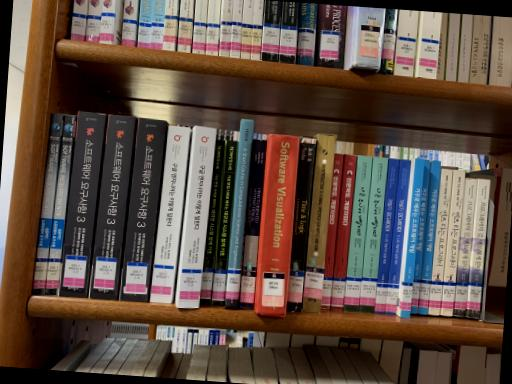book-spine: (58, 112, 106, 298), (88, 115, 135, 301), (118, 118, 164, 302), (257, 134, 299, 318), (148, 125, 189, 304), (176, 126, 216, 308), (302, 134, 335, 313), (31, 114, 62, 295), (224, 119, 253, 310), (44, 114, 74, 296), (286, 137, 316, 312), (358, 157, 388, 313), (343, 155, 372, 312), (239, 139, 265, 309), (198, 140, 224, 305), (211, 141, 237, 305), (330, 155, 357, 310), (399, 158, 424, 318), (374, 158, 398, 314), (386, 160, 410, 315), (441, 170, 465, 316), (321, 154, 343, 309), (418, 161, 440, 315), (429, 169, 452, 316), (453, 179, 477, 317), (409, 160, 430, 314), (467, 180, 490, 319)
